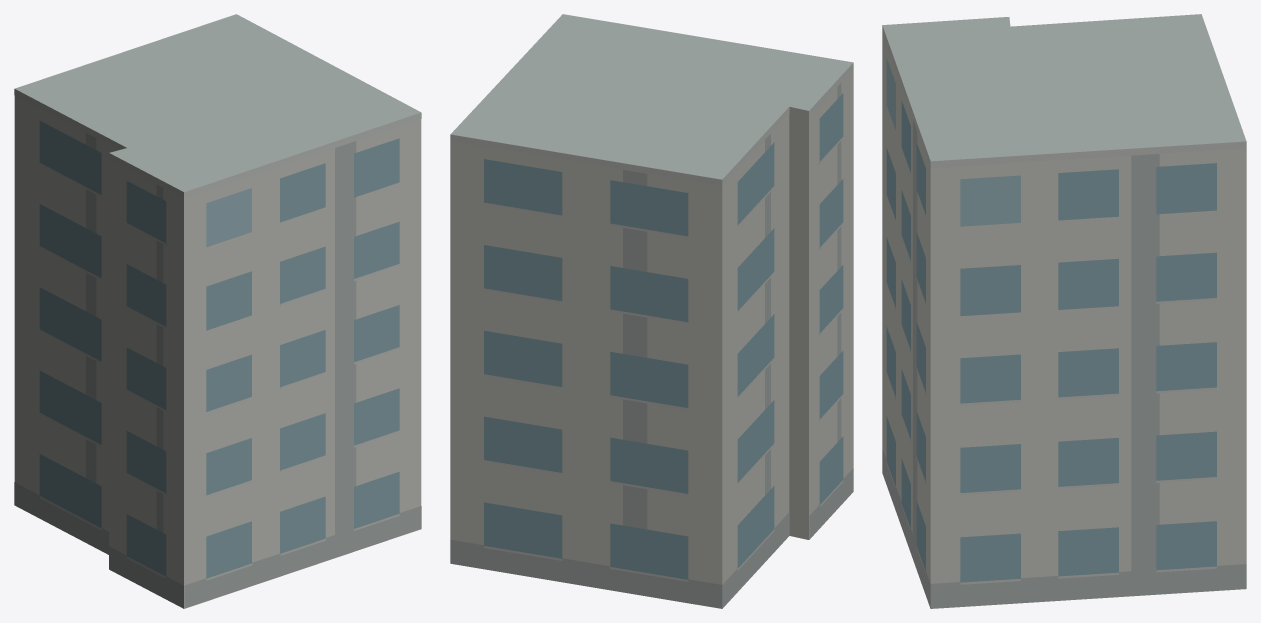
Rendered from survey-upis-33009641.glb.
The picture shows the model from 3 angles, left to right: view 1: azimuth 30°, elevation 25°; view 2: azimuth 150°, elevation 25°; view 3: azimuth 270°, elevation 25°; orthographic projection. The views are drawn at different scales.
Parts seen in each view (by area): view 1: survey-upis-33009641.tmp; view 2: survey-upis-33009641.tmp; view 3: survey-upis-33009641.tmp.
Part boxes in pixels (bbox=[...]): survey-upis-33009641.tmp: bbox=[14, 14, 421, 608]; survey-upis-33009641.tmp: bbox=[450, 14, 853, 608]; survey-upis-33009641.tmp: bbox=[882, 14, 1246, 608].
Size of the model in its own units: 11.02 by 15.6 by 11.52.
